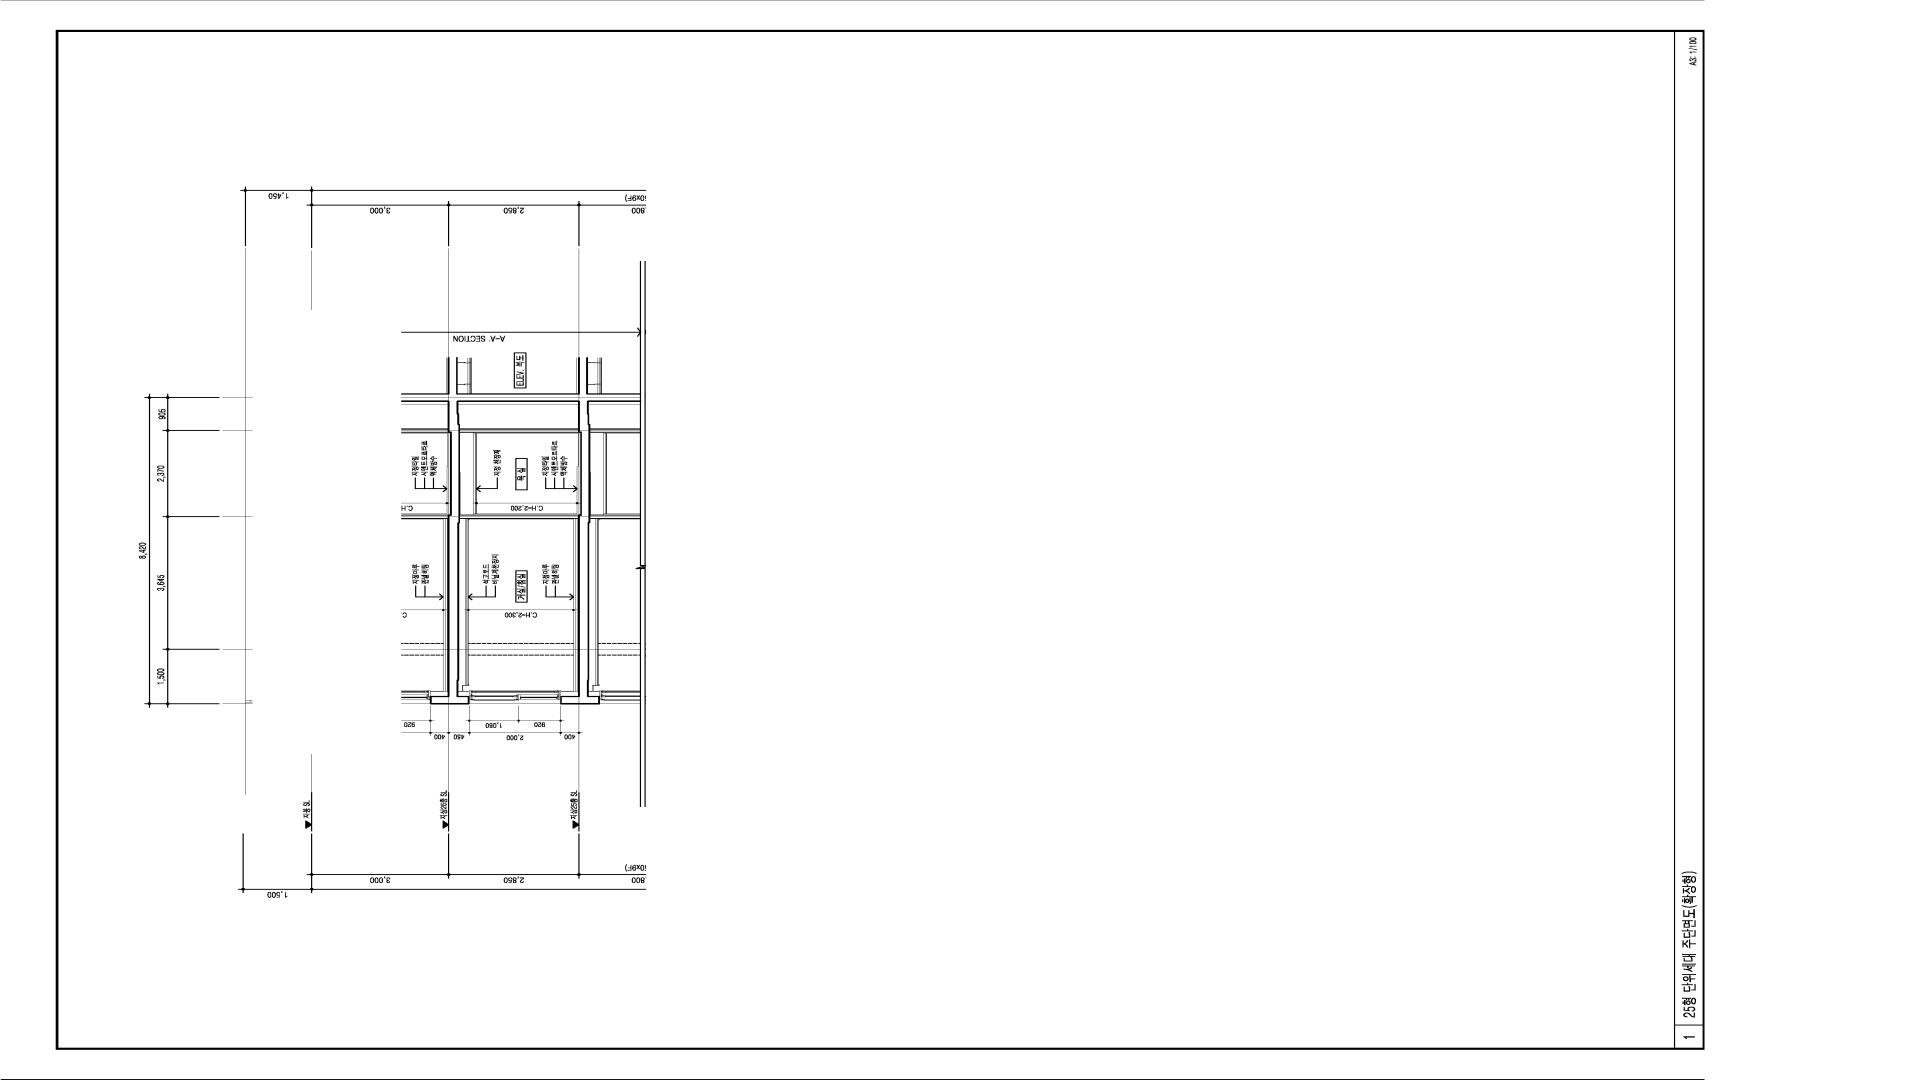background: (0, 0, 1920, 1080)
wall: (447, 357, 591, 704), (460, 514, 578, 520), (460, 429, 578, 433)
window: (469, 691, 560, 704)
